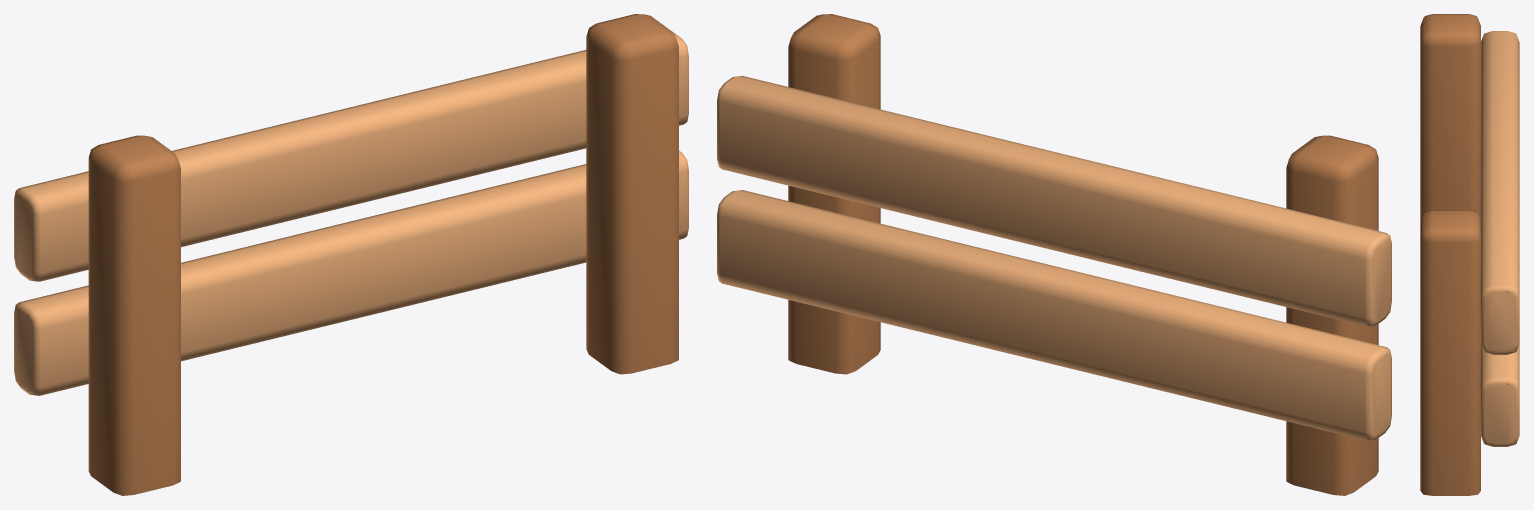
The model's file is Wooden_Fence_05.fbx.
The picture shows the model from 3 angles, left to right: view 1: azimuth 30°, elevation 25°; view 2: azimuth 150°, elevation 25°; view 3: azimuth 270°, elevation 25°; orthographic projection. The views are drawn at different scales.
Visible parts, largest first — view 1: Wooden_Fence_05; view 2: Wooden_Fence_05; view 3: Wooden_Fence_05.
Part boxes in pixels (bbox=[...]): Wooden_Fence_05: bbox=[14, 14, 688, 495]; Wooden_Fence_05: bbox=[717, 14, 1391, 495]; Wooden_Fence_05: bbox=[1420, 14, 1519, 495].
Bounding box in the file's own units: 1839 × 878 × 299.
